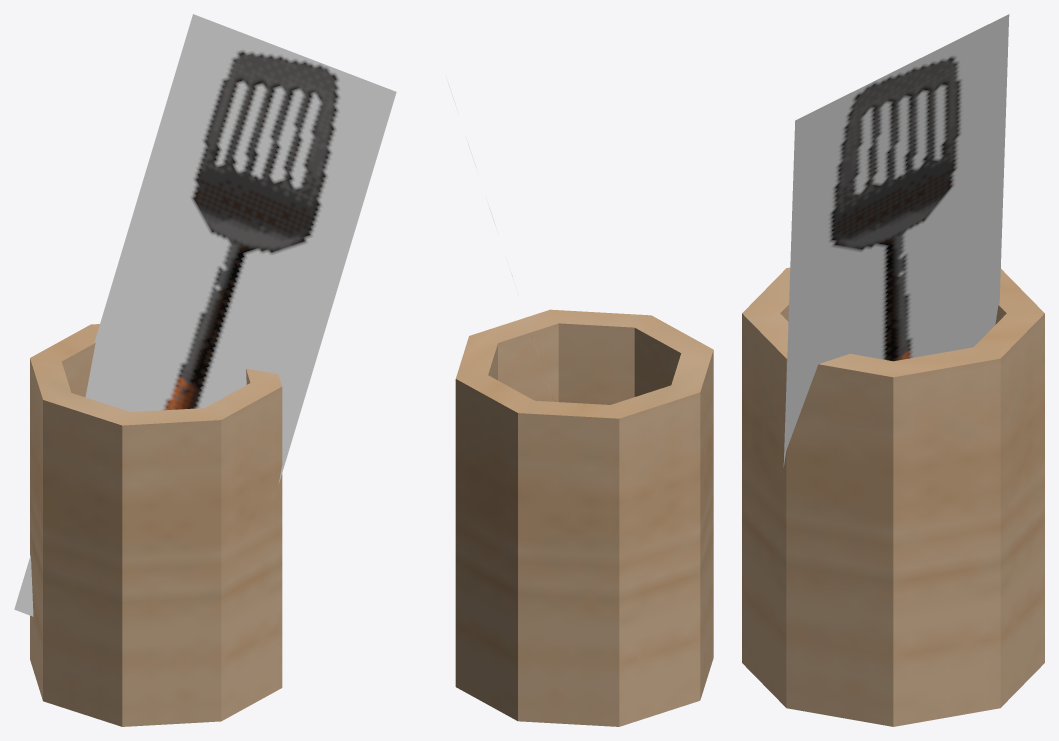
Rendered from Kitchen_Tools.fbx.
The picture shows the model from 3 angles, left to right: view 1: azimuth 30°, elevation 25°; view 2: azimuth 150°, elevation 25°; view 3: azimuth 270°, elevation 25°; orthographic projection. The views are drawn at different scales.
Visible parts, largest first — view 1: Cylinder.003; view 2: Cylinder.003; view 3: Cylinder.003.
Part boxes in pixels (x1=…): Cylinder.003: x1=14, y1=14, x2=396, y2=726; Cylinder.003: x1=455, y1=309, x2=713, y2=726; Cylinder.003: x1=742, y1=14, x2=1044, y2=726.
Size of the model in its own units: 20.65 by 38.16 by 15.
